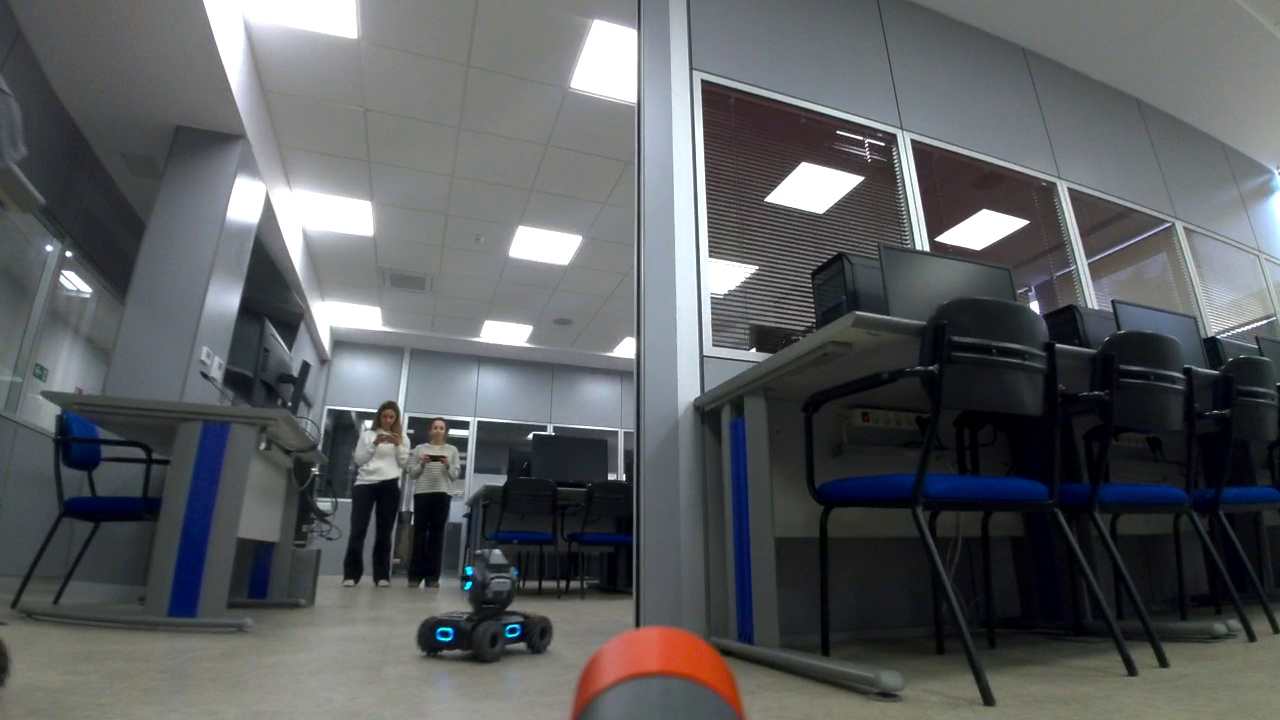robot: (414, 548, 556, 665)
